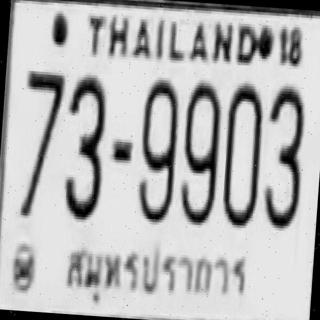N00: (220, 80, 265, 226)
N03: (60, 72, 108, 219), (260, 84, 306, 228)
N07: (16, 68, 65, 217)
N09: (134, 75, 180, 222), (177, 78, 222, 224)
P57: (57, 234, 256, 315)
